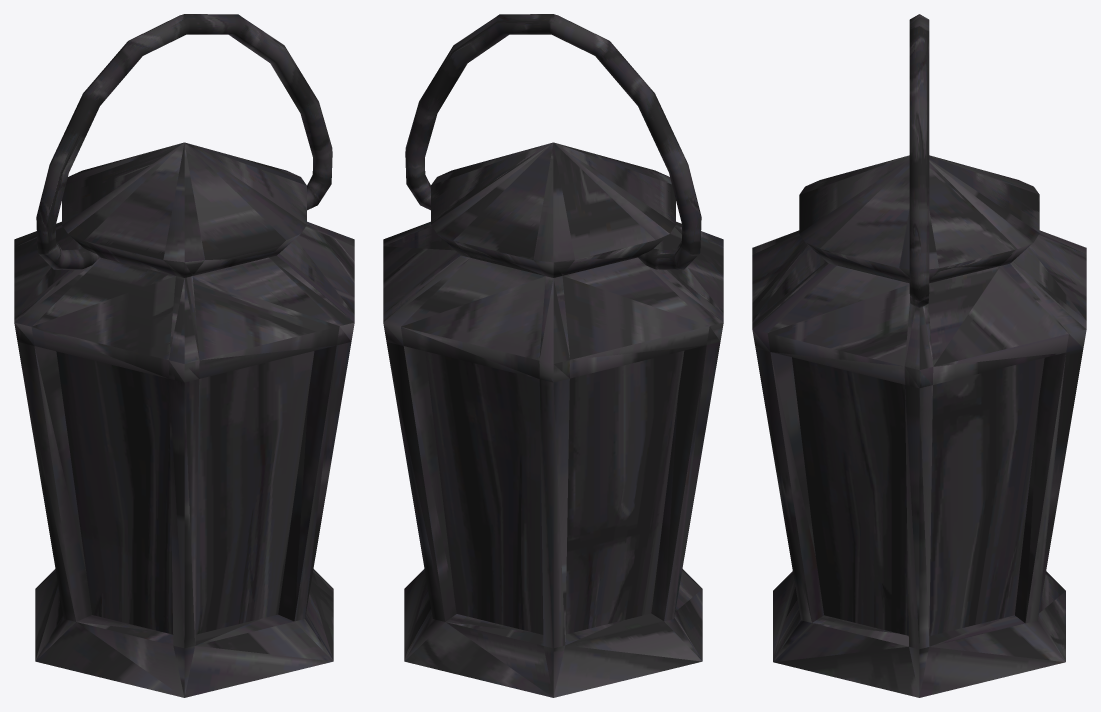
File: Lantern.fbx
The picture shows the model from 3 angles, left to right: view 1: azimuth 30°, elevation 25°; view 2: azimuth 150°, elevation 25°; view 3: azimuth 270°, elevation 25°; orthographic projection.
Parts seen in each view (by area): view 1: Frame, Glass, Handle; view 2: Frame, Glass, Handle; view 3: Frame, Glass, Handle.
Boxes of the visible parts, x1=… form: Frame: x1=14, y1=142, x2=354, y2=697; Glass: x1=56, y1=351, x2=314, y2=634; Handle: x1=36, y1=14, x2=332, y2=270; Frame: x1=383, y1=142, x2=723, y2=697; Glass: x1=425, y1=351, x2=684, y2=634; Handle: x1=405, y1=14, x2=701, y2=270; Frame: x1=752, y1=155, x2=1086, y2=697; Glass: x1=792, y1=357, x2=1044, y2=635; Handle: x1=909, y1=14, x2=929, y2=308.
Size of the model in its own units: 54.13 by 92.93 by 46.88.
